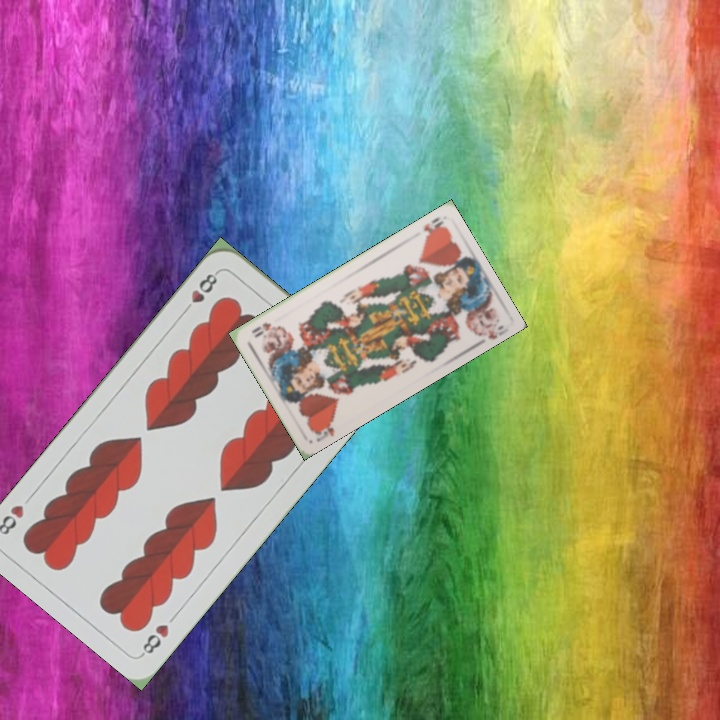H8: (179, 267, 222, 316), (138, 620, 172, 658)
HO: (308, 415, 337, 445), (419, 213, 448, 241)
